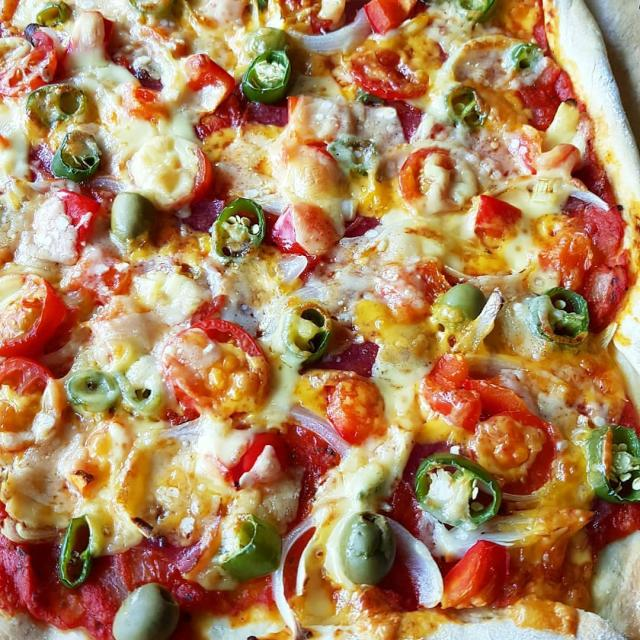pizza: (0, 0, 640, 640)
tomatoes: (161, 320, 269, 417), (0, 274, 66, 357), (399, 148, 477, 215), (33, 189, 100, 264), (350, 49, 429, 100), (326, 376, 384, 445), (0, 28, 58, 96), (519, 64, 574, 130), (184, 54, 235, 96), (0, 358, 53, 394), (271, 206, 298, 251)
